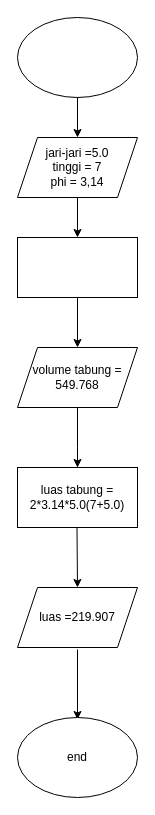
The diagram is 155 pixels wide and 815 high, and some of its shapes have lost their labels. The shapes that lost their labels are listed below. From the top down, each one's centre as x and y in pixels, then its label:
[77,57]: start
[77,267]: volume = 3.14*5.0*5.0*7
